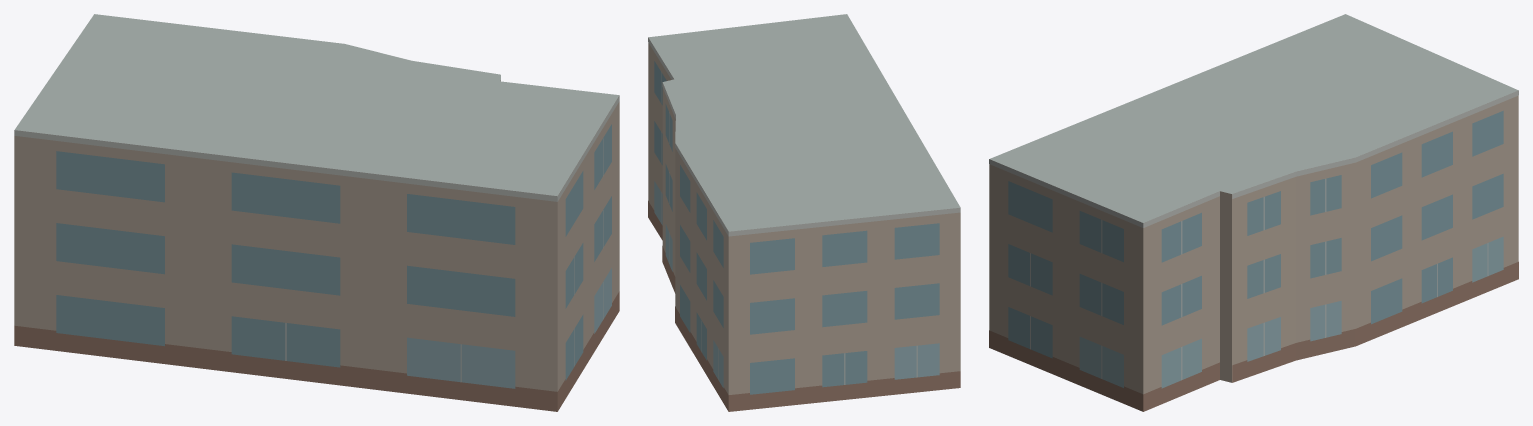
File: survey-upis-33000188.glb
3 views of the same model, side by side, from view 1: azimuth 30°, elevation 25°; view 2: azimuth 150°, elevation 25°; view 3: azimuth 270°, elevation 25° (orthographic). The views are drawn at different scales.
Parts seen in each view (by area): view 1: survey-upis-33000188.tmp; view 2: survey-upis-33000188.tmp; view 3: survey-upis-33000188.tmp.
Part boxes in pixels (x1=…): survey-upis-33000188.tmp: x1=14, y1=14, x2=619, y2=411; survey-upis-33000188.tmp: x1=648, y1=14, x2=960, y2=411; survey-upis-33000188.tmp: x1=989, y1=14, x2=1518, y2=411.
Bounding box in the file's own units: 21.74 × 9.15 × 23.27.
